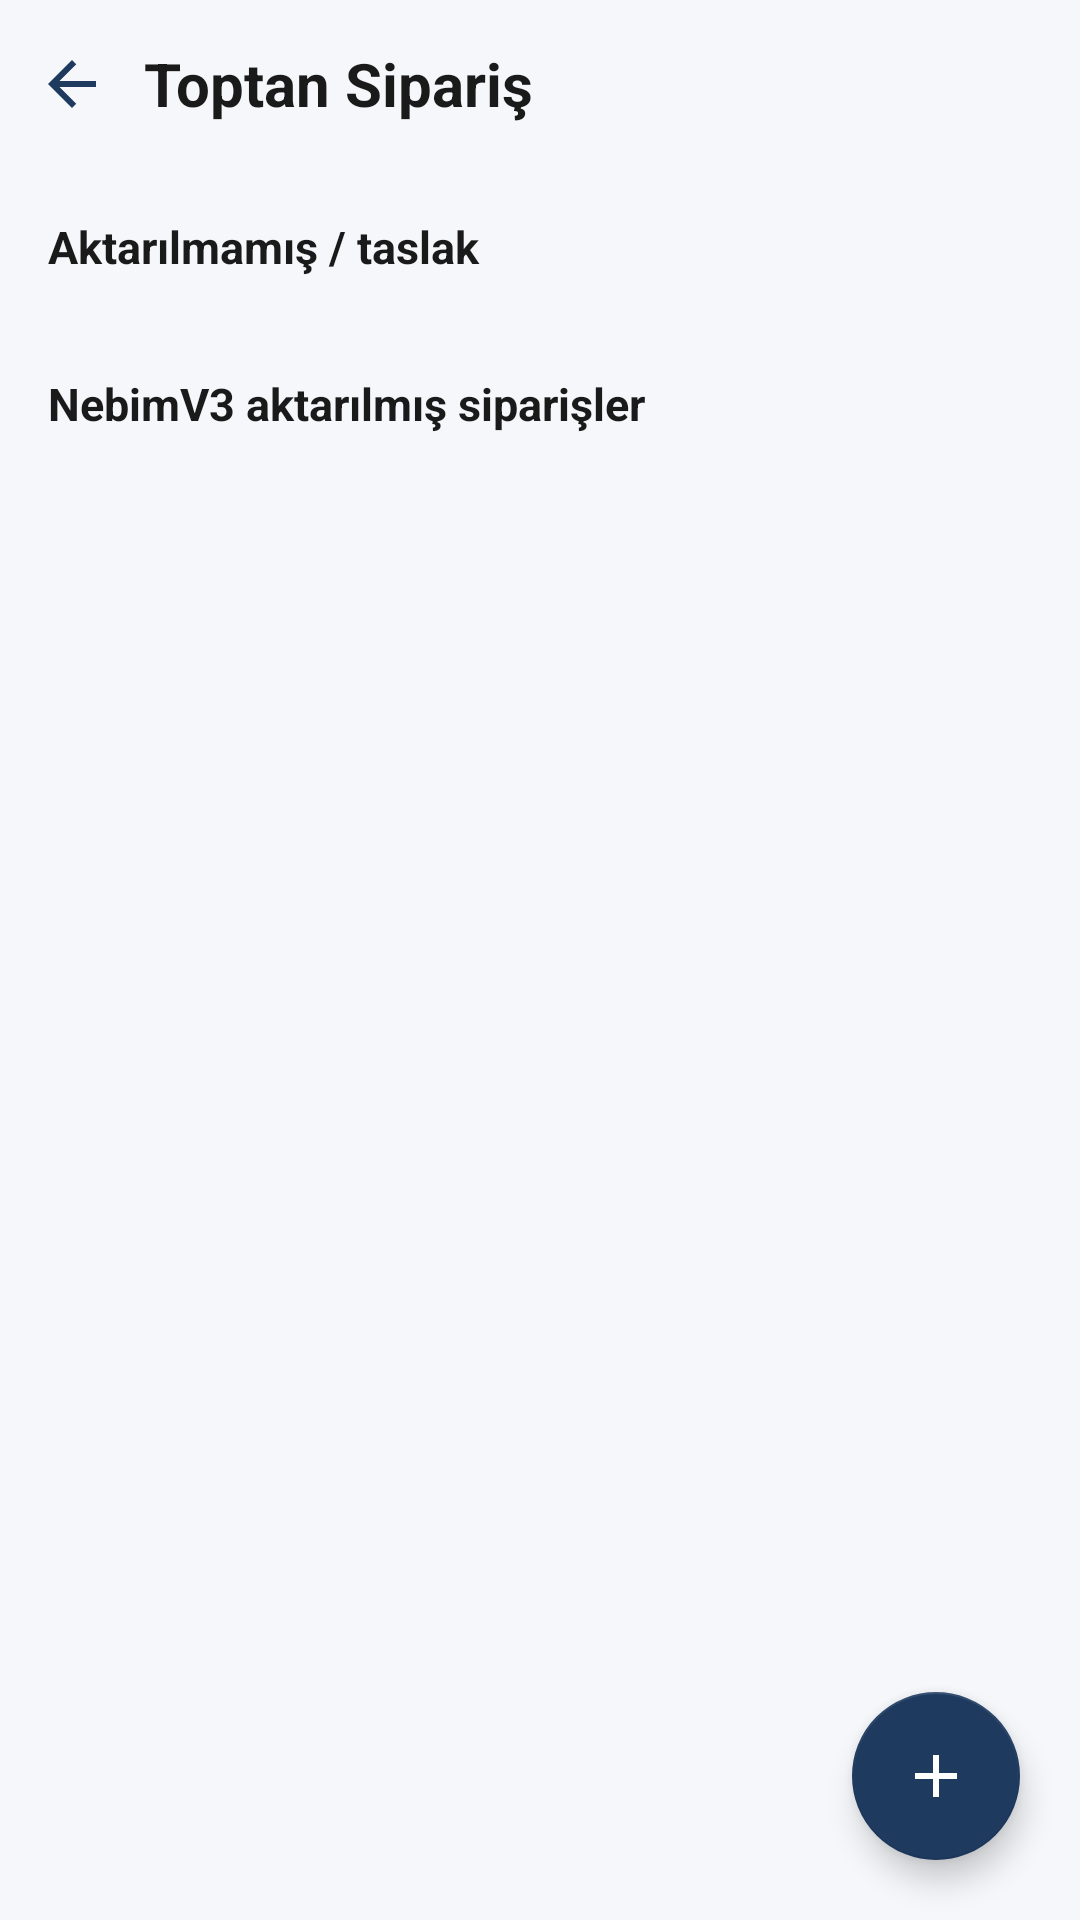

Icon click points for this 1080px×1920px phone screenshot, format (x=x, y=y):
Geri: (x=72, y=84)
Yeni Sipariş: (x=936, y=1776)
